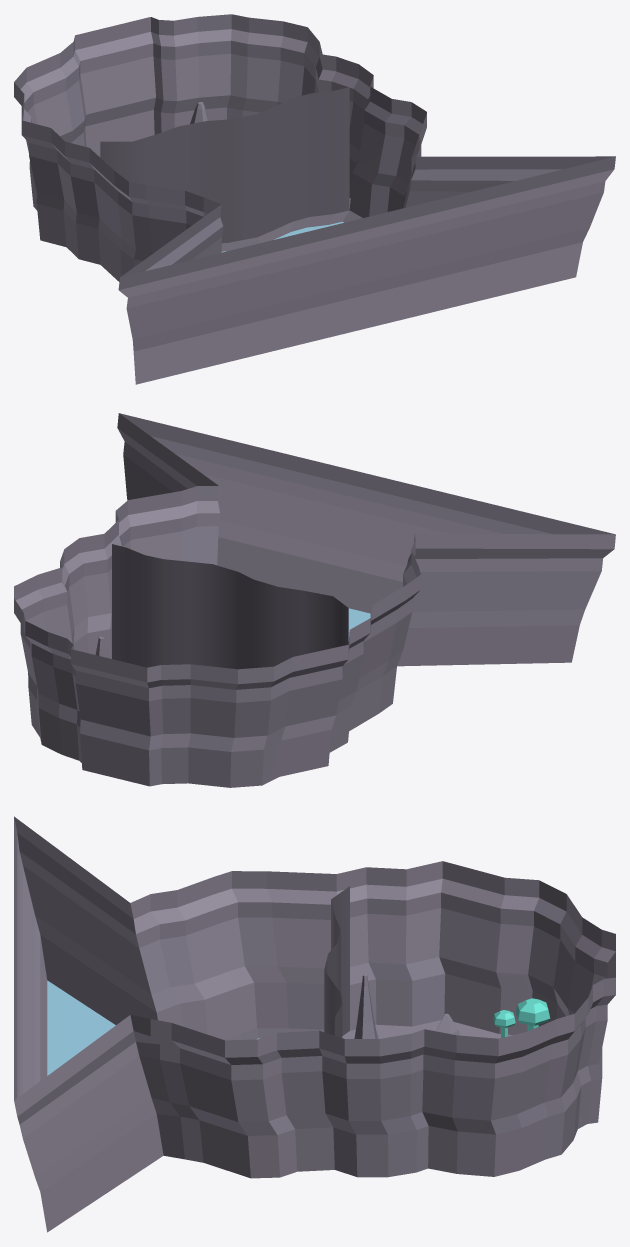
Rendered from Cavern.fbx.
3 renders of one model, top to bottom at view 1: azimuth 30°, elevation 25°; view 2: azimuth 150°, elevation 25°; view 3: azimuth 270°, elevation 25°, orthographic. The views are drawn at different scales.
Parts seen in each view (by area): view 1: Plane, Plane.001; view 2: Plane, Plane.001; view 3: Plane, Plane.001, Circle.011.
Part boxes in pixels (<box>): Plane: <box>14,14,615,384</box>; Plane.001: <box>100,87,349,243</box>; Plane: <box>14,413,615,787</box>; Plane.001: <box>112,544,348,669</box>; Plane: <box>14,816,615,1232</box>; Plane.001: <box>324,886,349,1037</box>; Circle.011: <box>516,998,550,1031</box>.
Size of the model in its own units: 3343 by 826 by 2992.
